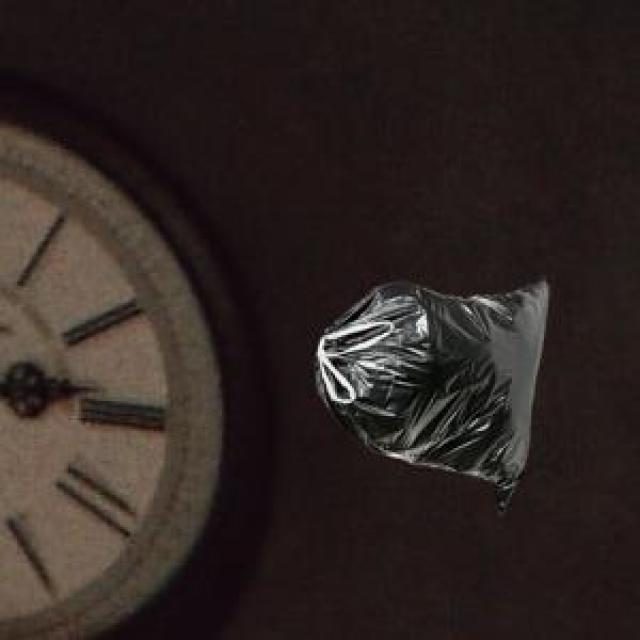waste: (320, 281, 548, 508)
